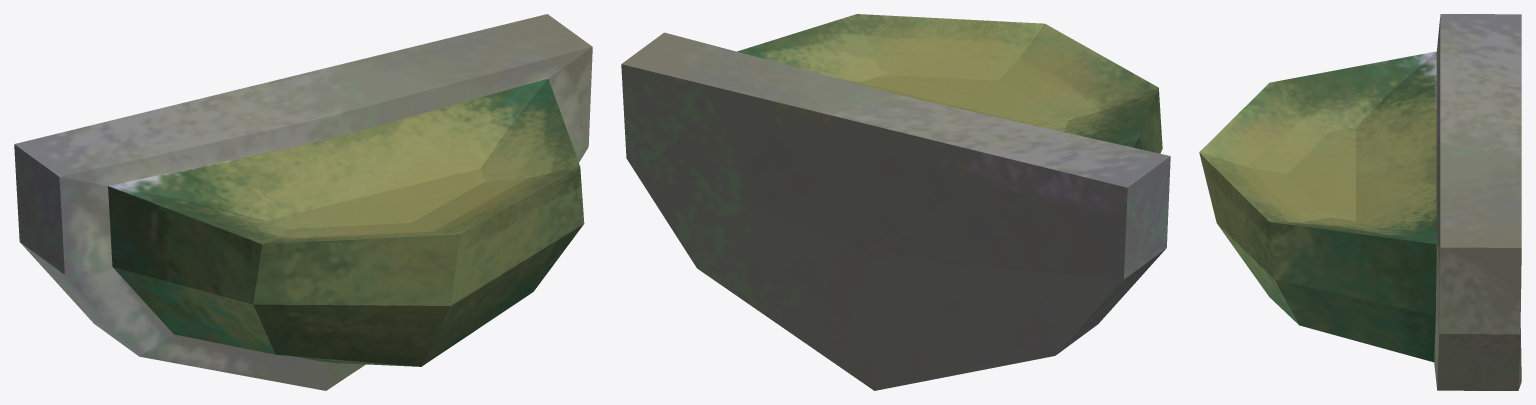
File: lamp2.fbx
3 renders of one model, left to right at view 1: azimuth 30°, elevation 25°; view 2: azimuth 150°, elevation 25°; view 3: azimuth 270°, elevation 25°, orthographic. The views are drawn at different scales.
Visible parts, largest first — view 1: Cube; view 2: Cube; view 3: Cube.
Boxes of the visible parts, box(x1,y1,x2,y2) form: Cube: box(14, 14, 592, 390); Cube: box(621, 14, 1170, 390); Cube: box(1199, 14, 1521, 390).
Bounding box in the file's own units: 46.45 × 23.25 × 27.09.
